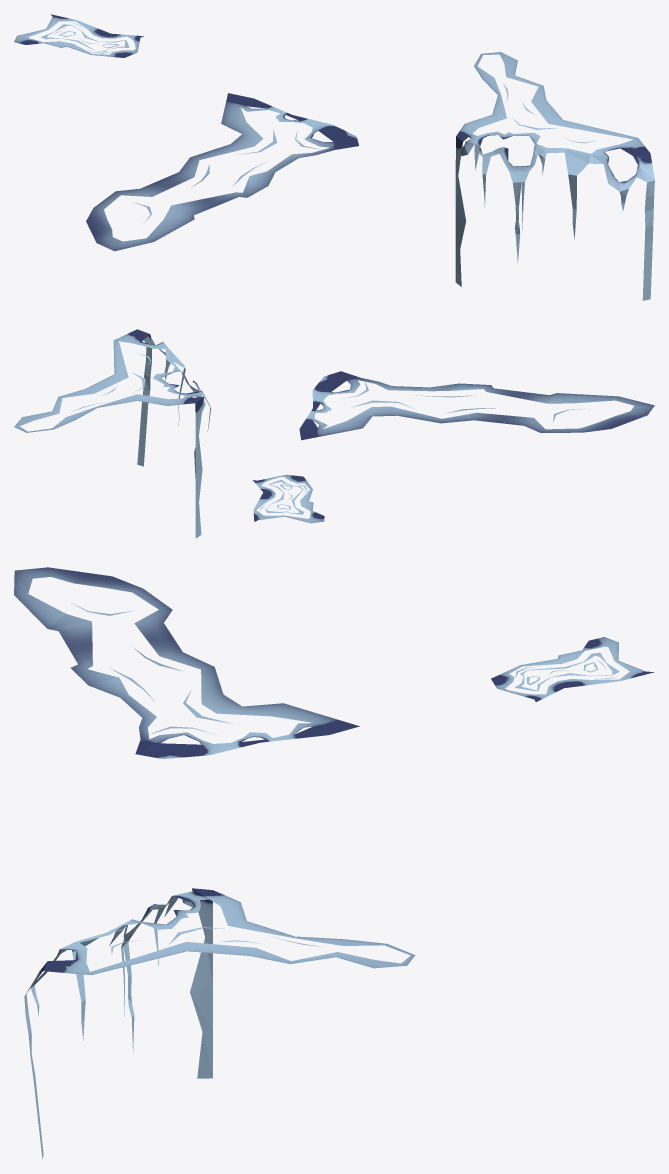
The model's file is Water_02.FBX.
3 views of the same model, one above another, from view 1: azimuth 30°, elevation 25°; view 2: azimuth 150°, elevation 25°; view 3: azimuth 270°, elevation 25° (orthographic). The views are drawn at different scales.
Parts seen in each view (by area): view 1: Water_02; view 2: Water_02; view 3: Water_02.
Part boxes in pixels (<box>): Water_02: <box>14,14,654,300</box>; Water_02: <box>14,329,654,538</box>; Water_02: <box>14,567,654,1159</box>.
Size of the model in its own units: 29.06 by 9.98 by 22.37.
